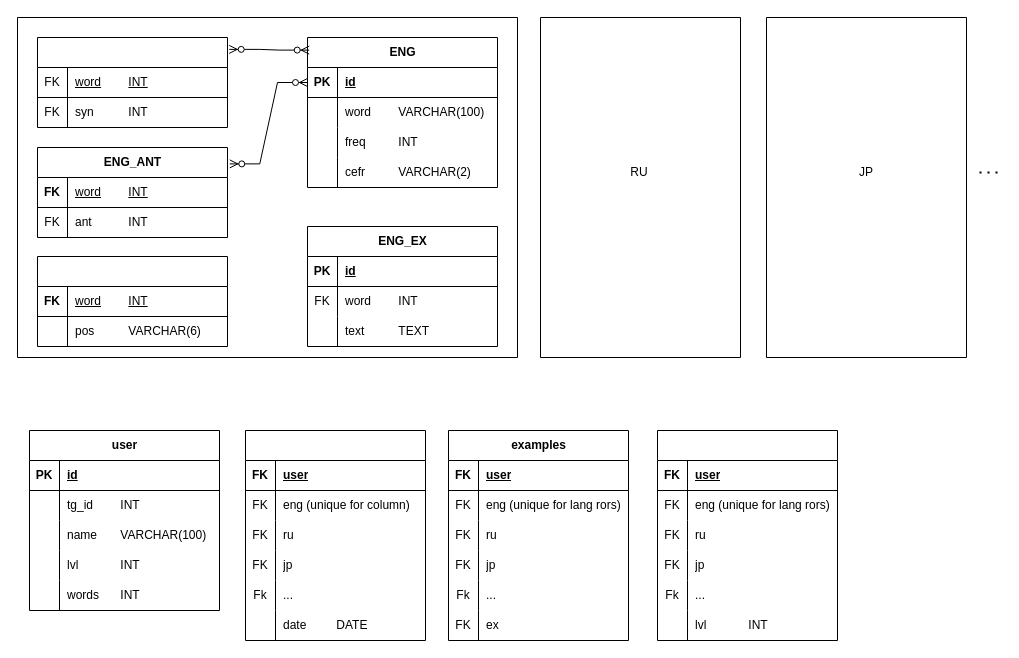
This 1019x658 diagram has some shape labels left out. The box of each missing label's shape, as (x1, y1, x2, y2) in pixels:
dict: (244, 430, 426, 640)
ENG_POS: (36, 256, 228, 346)
ENG_SYN: (36, 36, 228, 128)
progres: (656, 430, 838, 640)
